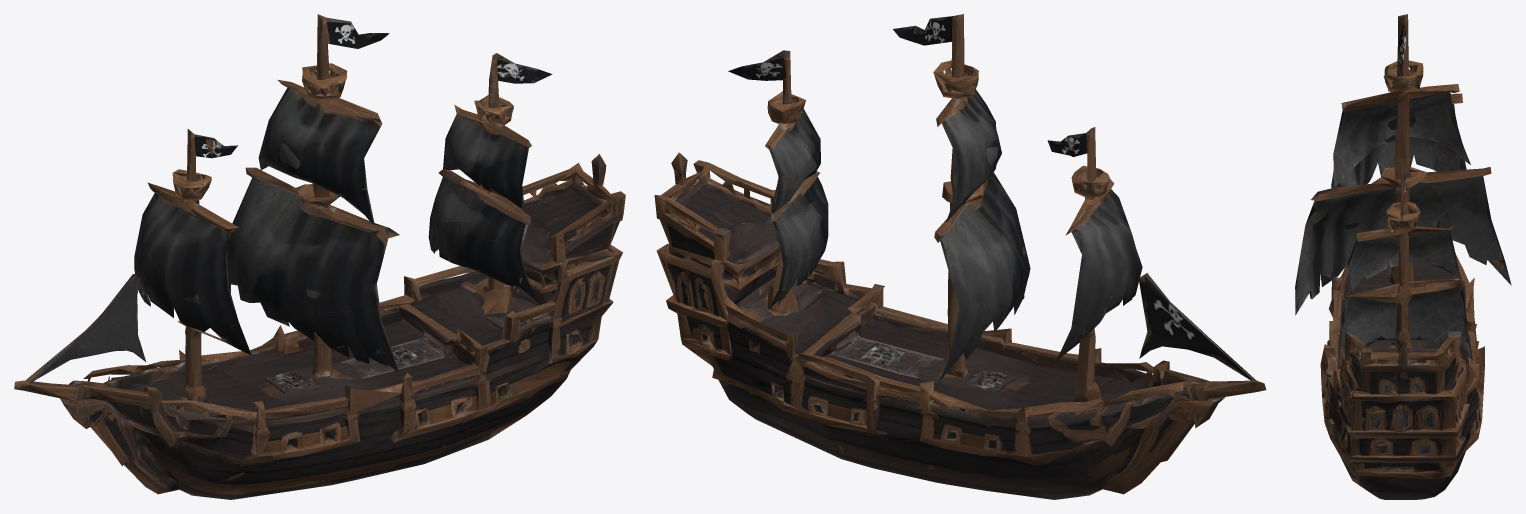
The model's file is obj_pirate_ship.glb.
3 renders of one model, left to right at view 1: azimuth 30°, elevation 25°; view 2: azimuth 150°, elevation 25°; view 3: azimuth 270°, elevation 25°, orthographic. The views are drawn at different scales.
Bounding box in the file's own units: 1.89 × 1.37 × 0.6576.
Materials: 1 (1 with a texture image).
